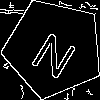N: (28, 23, 84, 81)
